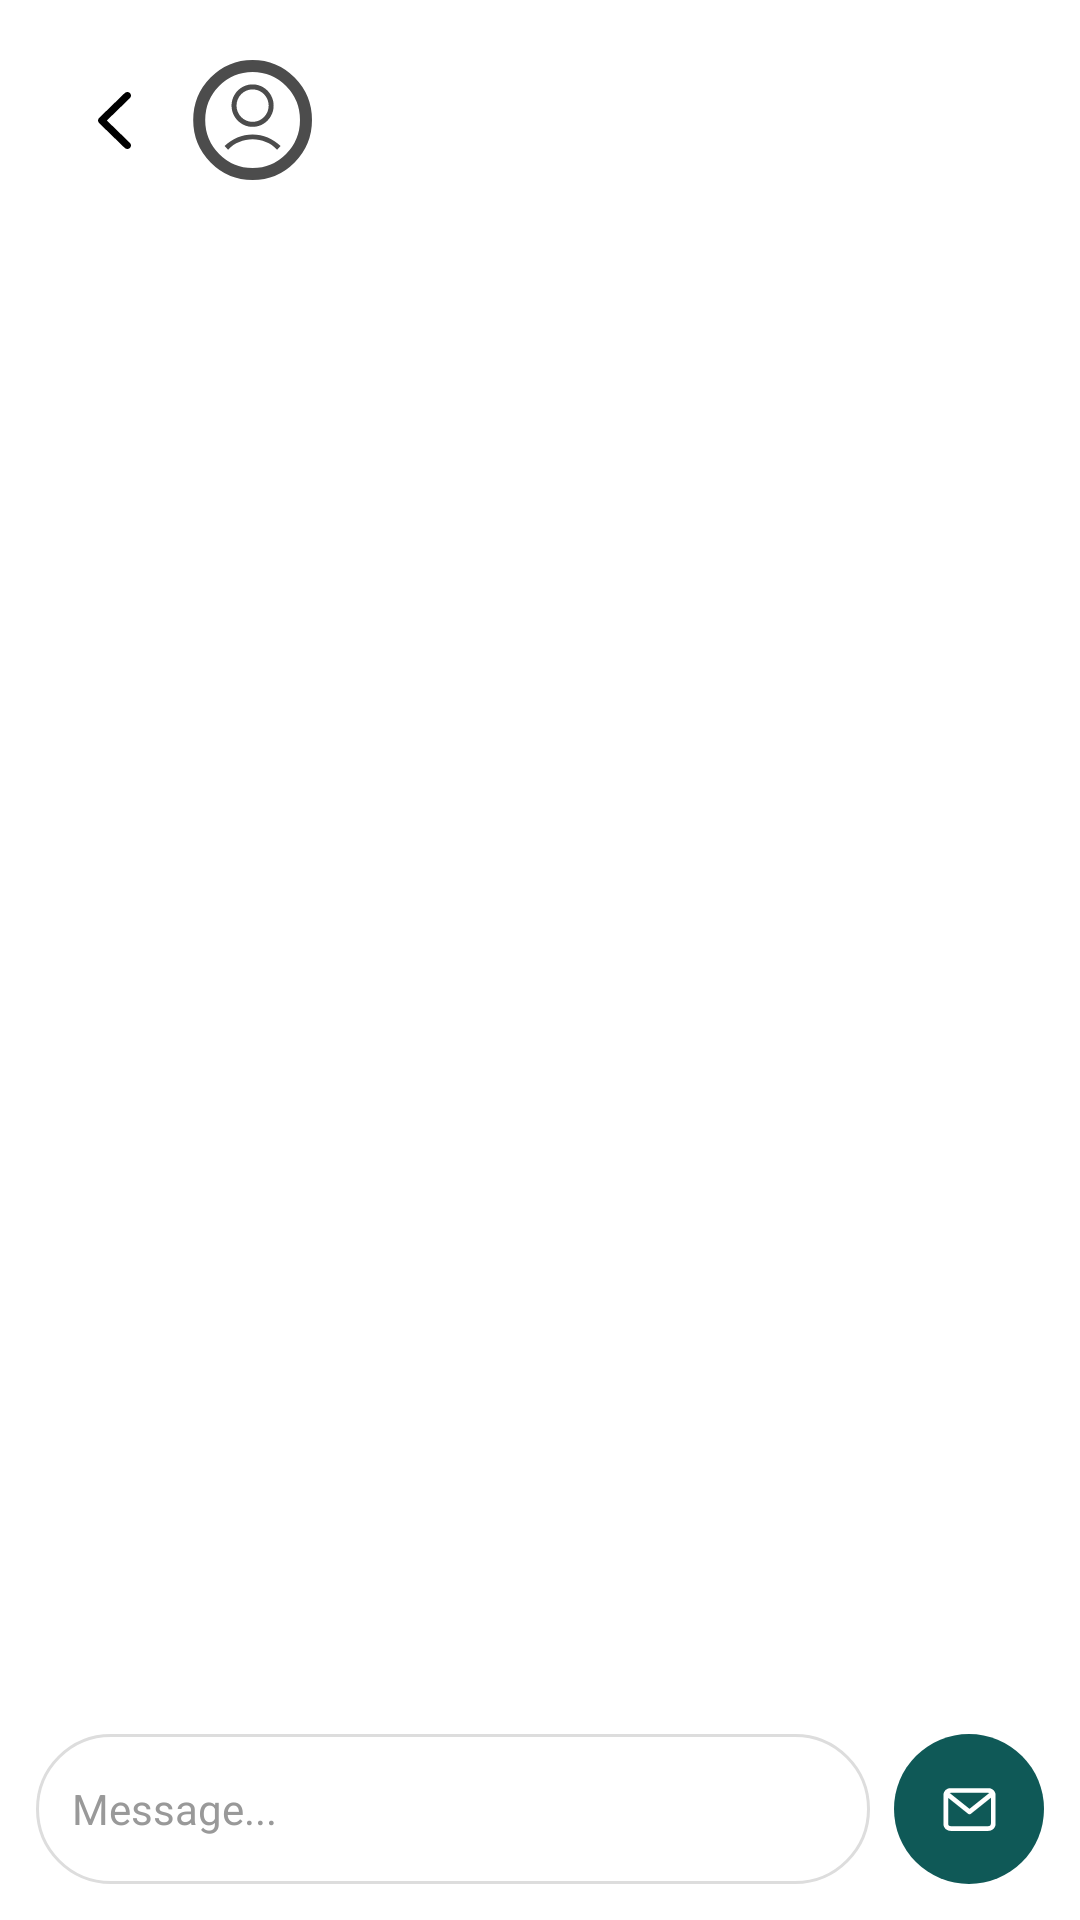

Icons on this 1080w x 1920h Android screen, each with its box as (x1, y1, x2, y2):
Enviar mensaje: (894, 1734, 1044, 1884)
perfil: (193, 60, 312, 180)
Volver: (98, 92, 131, 149)
